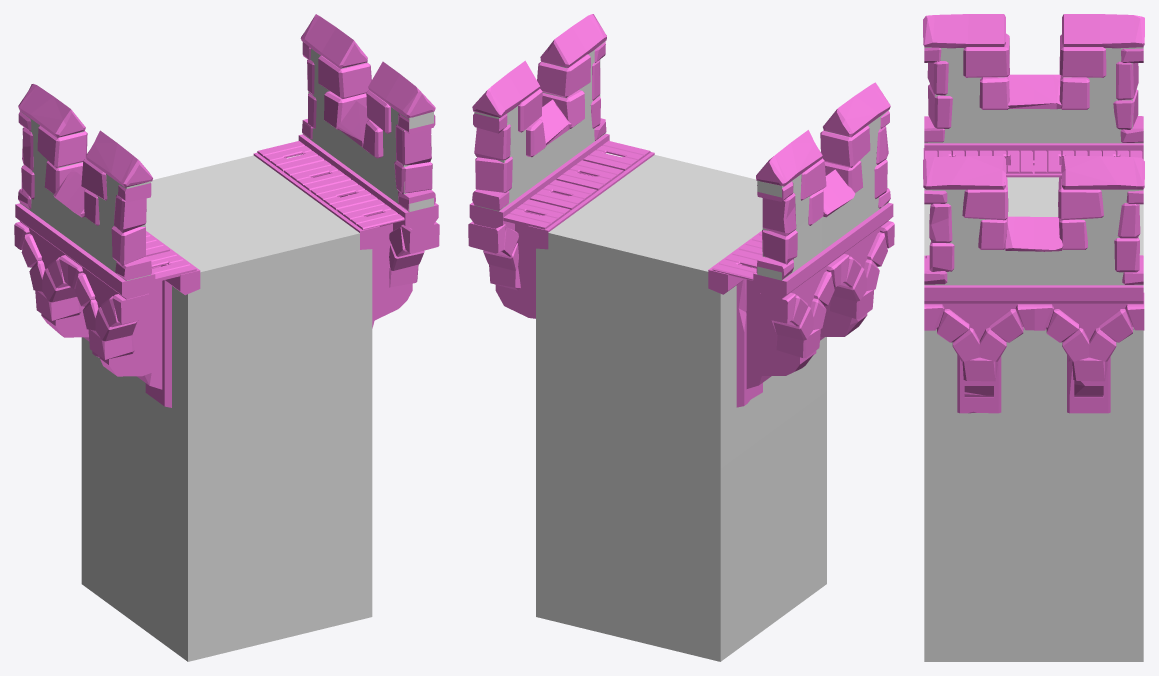
Rendered from SM_Rampart_3x6m_Mach_Guard_Walk_A_Fantasy.fbx.
3 renders of one model, left to right at view 1: azimuth 30°, elevation 25°; view 2: azimuth 150°, elevation 25°; view 3: azimuth 270°, elevation 25°, orthographic. The views are drawn at different scales.
Visible parts, largest first — view 1: SM_Rampart_3x6m_Mach_Guard_Walk_A_Fantasy_Base; view 2: SM_Rampart_3x6m_Mach_Guard_Walk_A_Fantasy_Base; view 3: SM_Rampart_3x6m_Mach_Guard_Walk_A_Fantasy_Base.
Boxes of the visible parts, x1,y1,x2,y2 form: SM_Rampart_3x6m_Mach_Guard_Walk_A_Fantasy_Base: (14, 14, 439, 661); SM_Rampart_3x6m_Mach_Guard_Walk_A_Fantasy_Base: (468, 14, 894, 661); SM_Rampart_3x6m_Mach_Guard_Walk_A_Fantasy_Base: (923, 14, 1144, 661).
Size of the model in its own units: 5.26 by 8.01 by 3.03.
